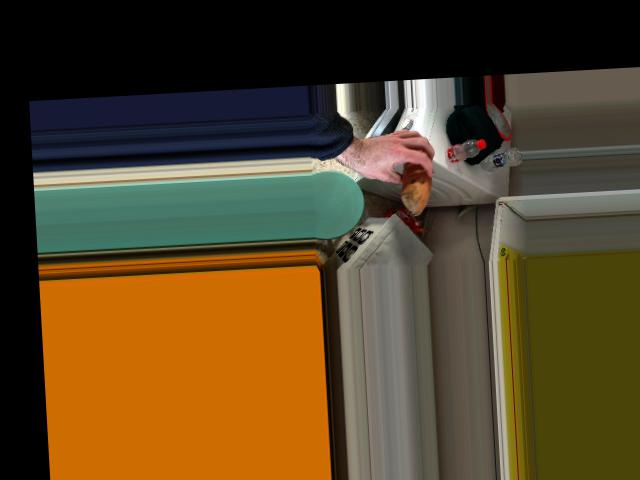sweet_potato: (392, 151, 430, 200)
